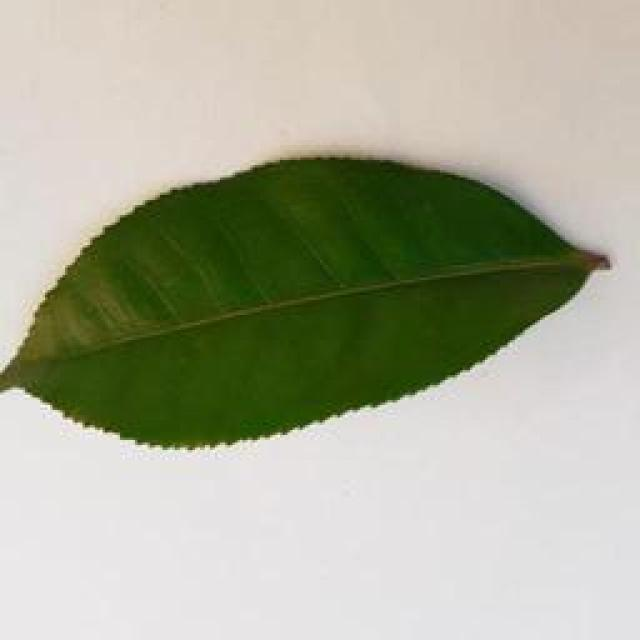Healthy: (0, 143, 615, 455)
